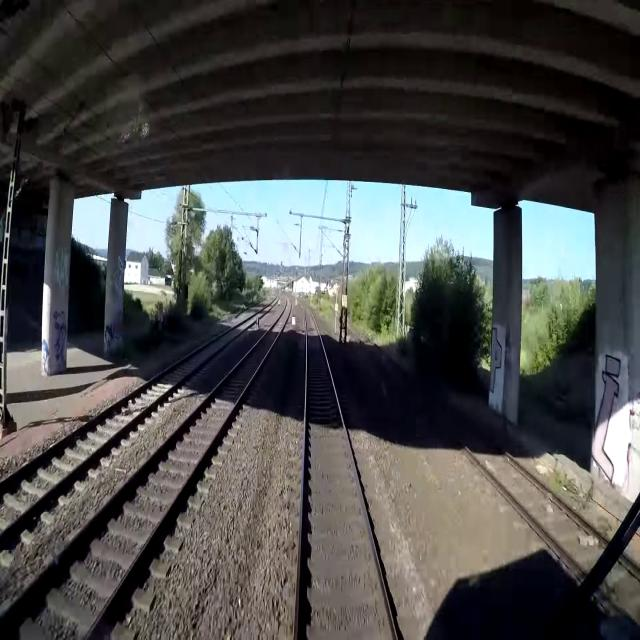rail-track: (0, 296, 289, 639), (347, 322, 604, 568), (0, 303, 272, 530), (298, 302, 392, 639)
